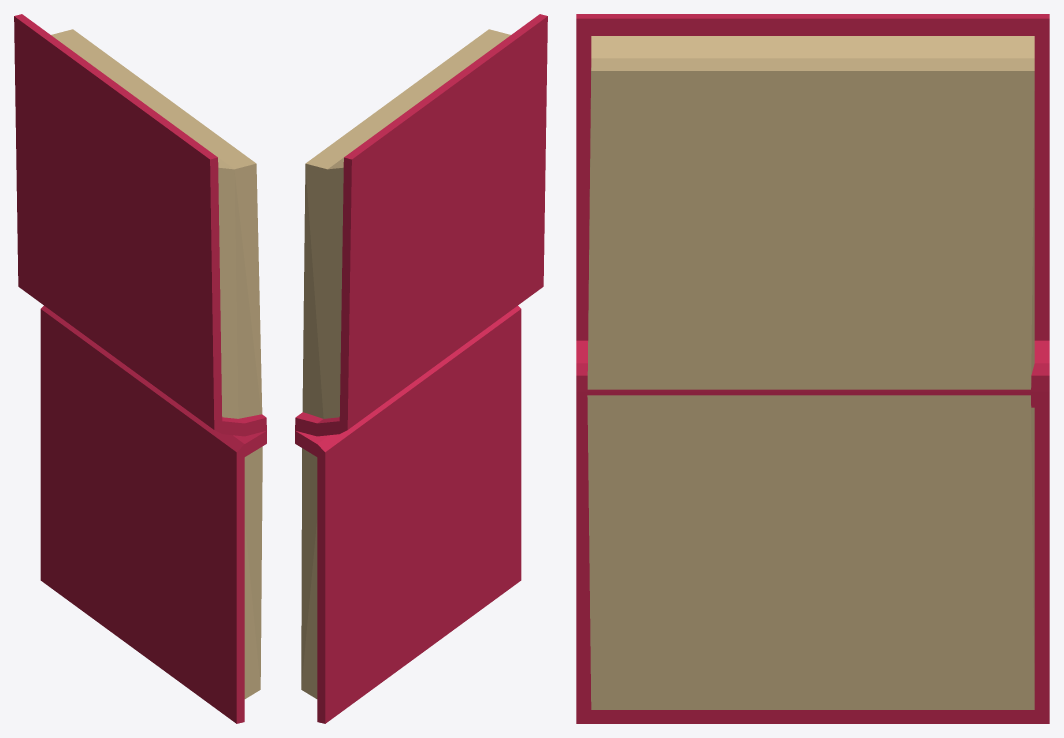
File: BookAnim.fbx
3 renders of one model, left to right at view 1: azimuth 30°, elevation 25°; view 2: azimuth 150°, elevation 25°; view 3: azimuth 270°, elevation 25°, orthographic. The views are drawn at different scales.
Parts seen in each view (by area): view 1: Book2, Book1; view 2: Book2, Book1; view 3: Book2, Book1.
Boxes of the visible parts, left/top/right/bottom form: Book2: left=14, top=14, right=266, bottom=436; Book1: left=40, top=306, right=266, bottom=723; Book2: left=295, top=14, right=547, bottom=436; Book1: left=295, top=306, right=521, bottom=723; Book2: left=576, top=14, right=1049, bottom=391; Book1: left=576, top=391, right=1049, bottom=723.
Bounding box in the file's own units: 3.13 × 29.74 × 18.5.
